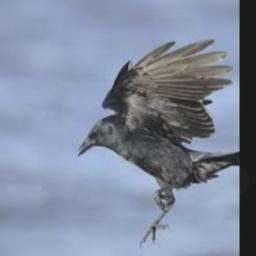Crow: (75, 38, 239, 251)
